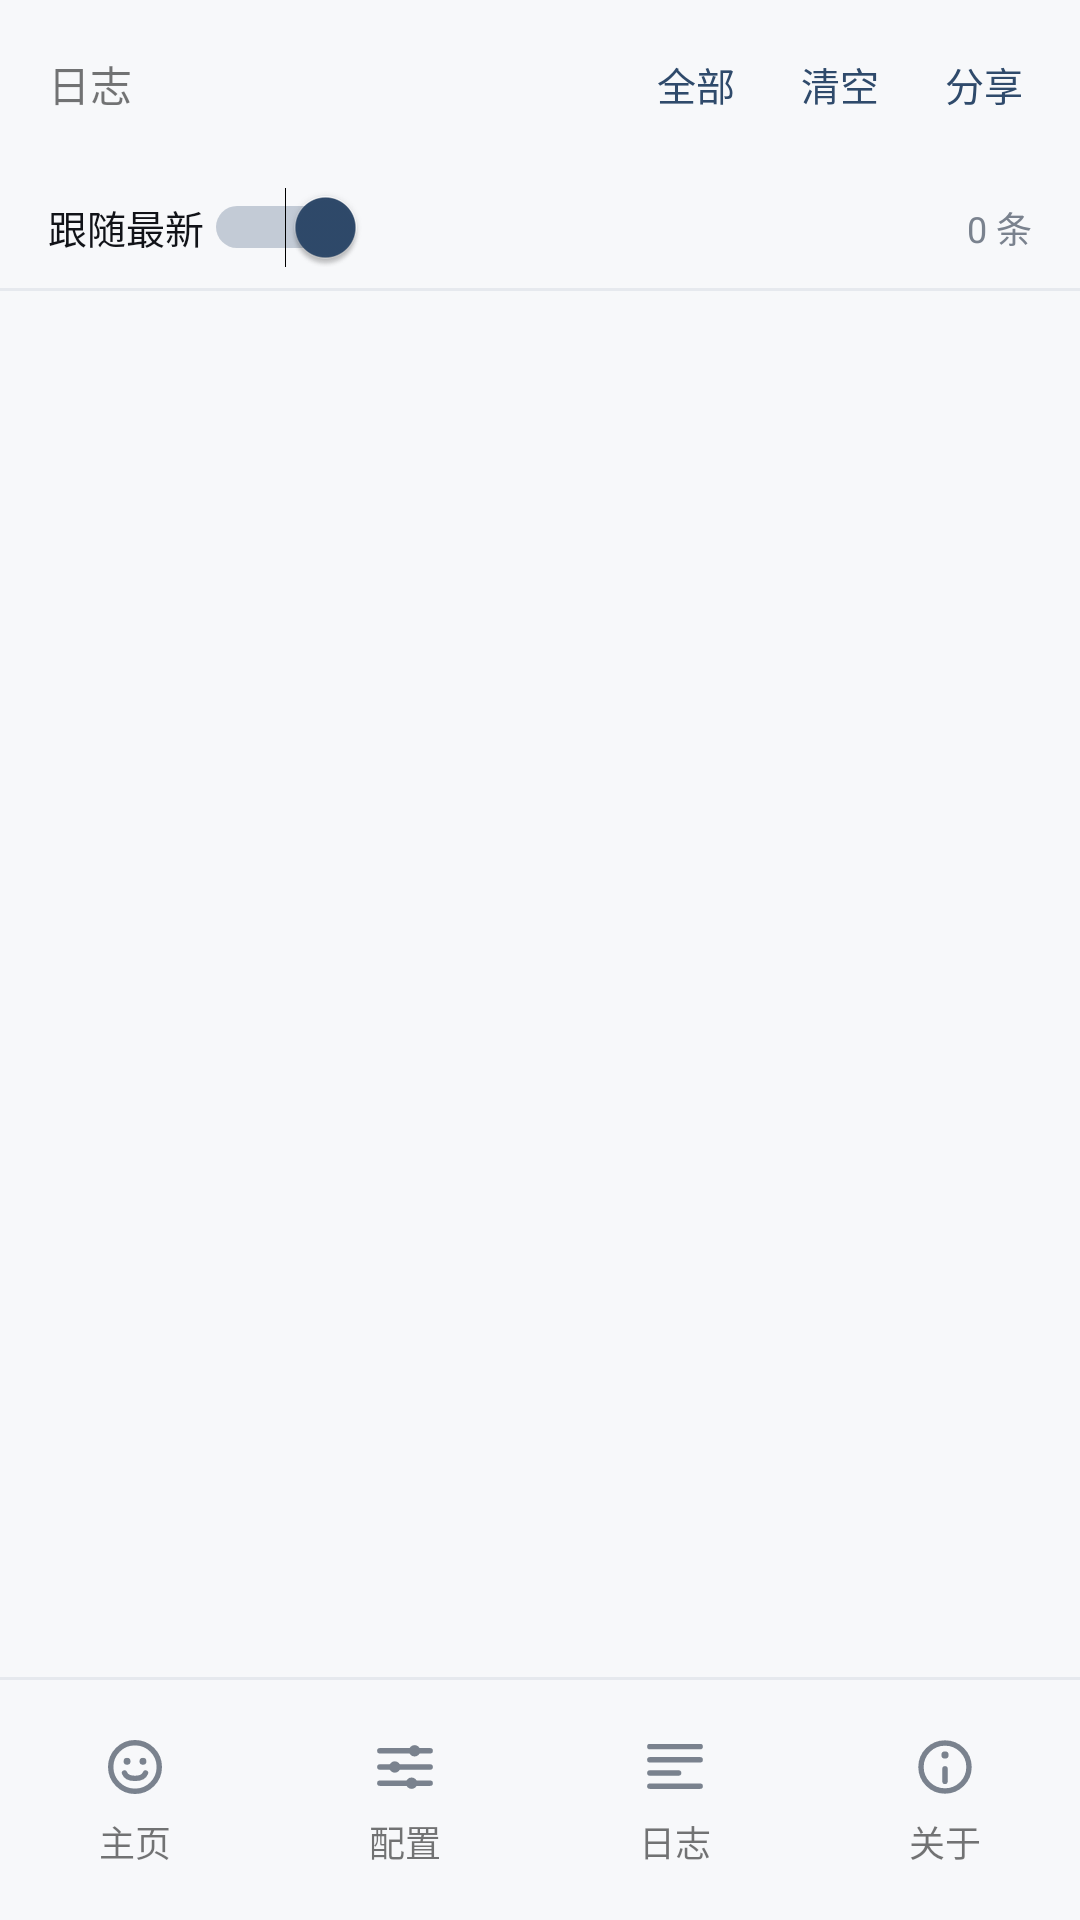

Locate icon controls on the screen. Image size 1080×1920, boxes as (left=x1, top=y1, right=x2, bottom=y2).
info: (left=918, top=1740, right=972, bottom=1794)
